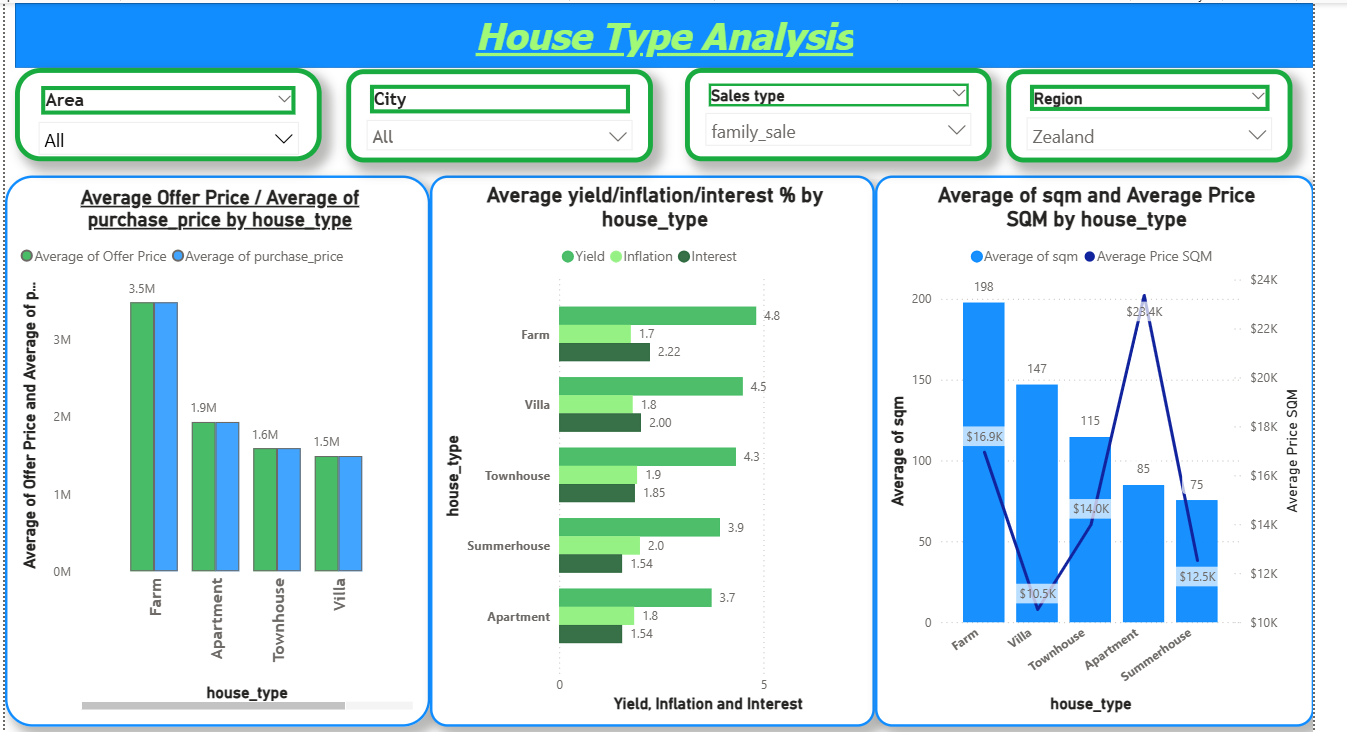

What the dashboard file says about the page in this screenshot:
{"tool":"powerbi","page":{"name":"House type analysis","canvas":[1280,720],"ordinal":2},"visuals":[{"type":"shape","box":[9.8,0,1270.5,63.6],"z":0},{"type":"clusteredColumnChart","title":"Average  Offer Price / Average of purchase_price by house_type","fields":{"Category":["Housing.house_type"],"Y":["Avg(Housing.Offer Price)","Avg(Housing.purchase_price)"]},"box":[0,168.8,415.8,539.3],"z":1000},{"type":"clusteredBarChart","title":"Average yield/inflation/interest % by house_type","fields":{"Category":["Housing.house_type"],"Y":["Avg(Housing.yield_on_mortgage_credit_bonds%)","Avg(Housing.dk_ann_infl_rate%)","Avg(Housing.nom_interest_rate%)"]},"box":[415.8,168.8,435.3,539.3],"z":2000},{"type":"lineStackedColumnComboChart","fields":{"Category":["Housing.house_type"],"Y2":["Housing.Average Price SQM"],"Y":["Avg(Housing.sqm)"]},"box":[851.1,168.8,429.2,539.3],"z":3000},{"type":"slicer","fields":{"Values":["Housing.area"]},"box":[10,63.8,300,91.2],"z":4000},{"type":"slicer","fields":{"Values":["Housing.city"]},"box":[333.8,65,300,91.2],"z":5000},{"type":"slicer","fields":{"Values":["Housing.sales_type"]},"box":[665,63.8,300,91.2],"z":6000},{"type":"slicer","fields":{"Values":["Housing.region"]},"box":[980,65,280,91.2],"z":7000}]}

Visuals, with their boxes in screenshot pixels (x1, y1, x2, y2):
shape: 24:7:1300:71
"Average  Offer Price / Average of purchase_price by house_type" clusteredColumnChart: 14:177:432:718
"Average yield/inflation/interest % by house_type" clusteredBarChart: 432:177:869:718
lineStackedColumnComboChart - Housing.house_type x Housing.Average Price SQM: 869:177:1300:718
slicer - Housing.area: 24:71:325:163
slicer - Housing.city: 349:72:650:164
slicer - Housing.sales_type: 682:71:983:163
slicer - Housing.region: 998:72:1279:164
